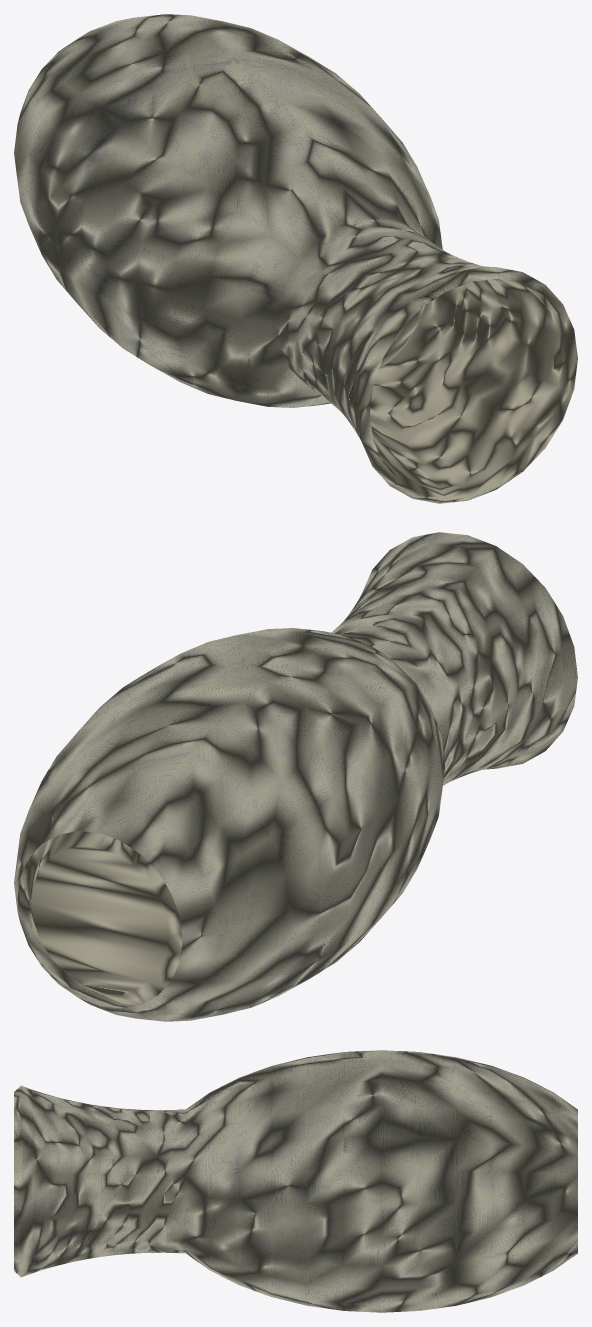
Rendered from model_align.obj.
The picture shows the model from 3 angles, top to bottom: view 1: azimuth 30°, elevation 25°; view 2: azimuth 150°, elevation 25°; view 3: azimuth 270°, elevation 25°; orthographic projection. The views are drawn at different scales.
Bounding box in the file's own units: 0.1076 × 0.1076 × 0.2303.
